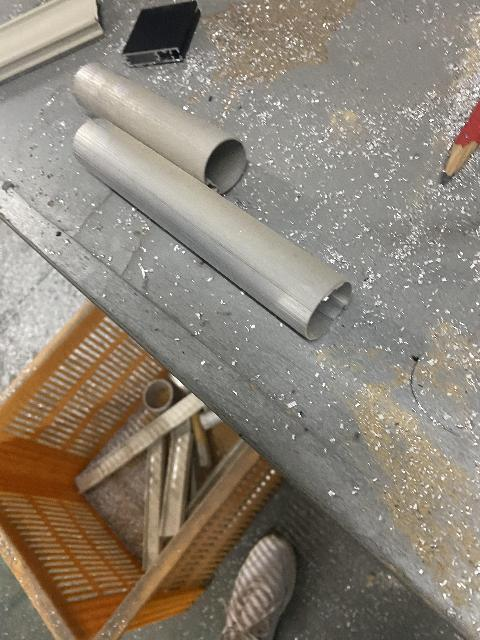Metal: (72, 118, 353, 341), (74, 373, 224, 574), (72, 61, 248, 195), (0, 0, 107, 85), (122, 0, 202, 69)
